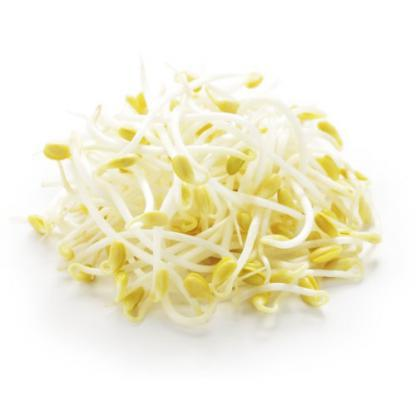bean sprouts: (24, 52, 391, 334)
